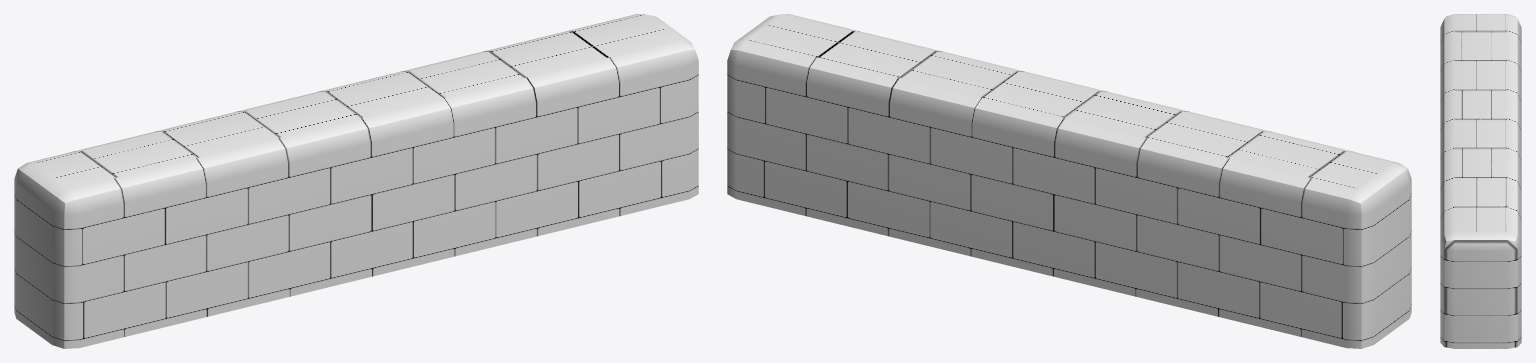
The model's file is Beach Wall.fbx.
3 renders of one model, left to right at view 1: azimuth 30°, elevation 25°; view 2: azimuth 150°, elevation 25°; view 3: azimuth 270°, elevation 25°, orthographic. The views are drawn at different scales.
Parts seen in each view (by area): view 1: pCube1; view 2: pCube1; view 3: pCube1.
Part boxes in pixels (x1=…): pCube1: x1=14, y1=14, x2=698, y2=348; pCube1: x1=727, y1=14, x2=1411, y2=348; pCube1: x1=1440, y1=14, x2=1521, y2=348.
Bounding box in the file's own units: 10 × 2.25 × 1.5.
Materials: 1 (1 with a texture image).
